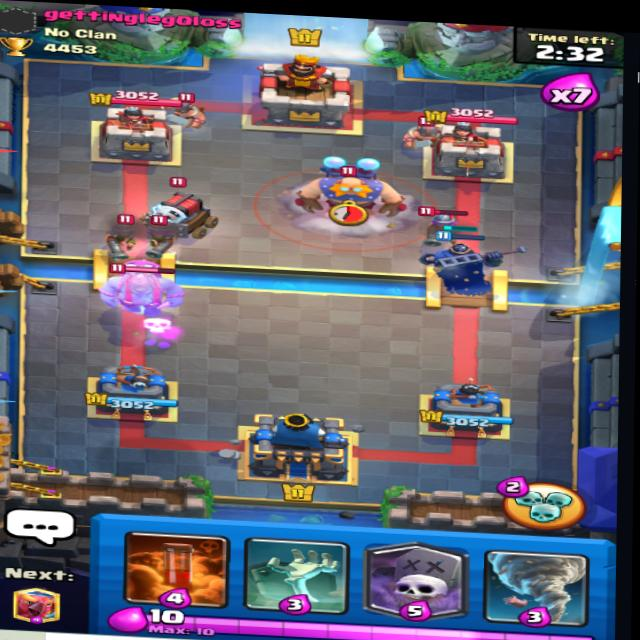electro-barbarians: (399, 105, 450, 148), (163, 90, 217, 127)
electro-giant: (293, 157, 408, 227)
goblin-giant: (102, 251, 189, 318)
musketeer: (419, 205, 478, 254), (99, 213, 161, 257), (137, 211, 188, 258)
sparky: (145, 177, 237, 244)
